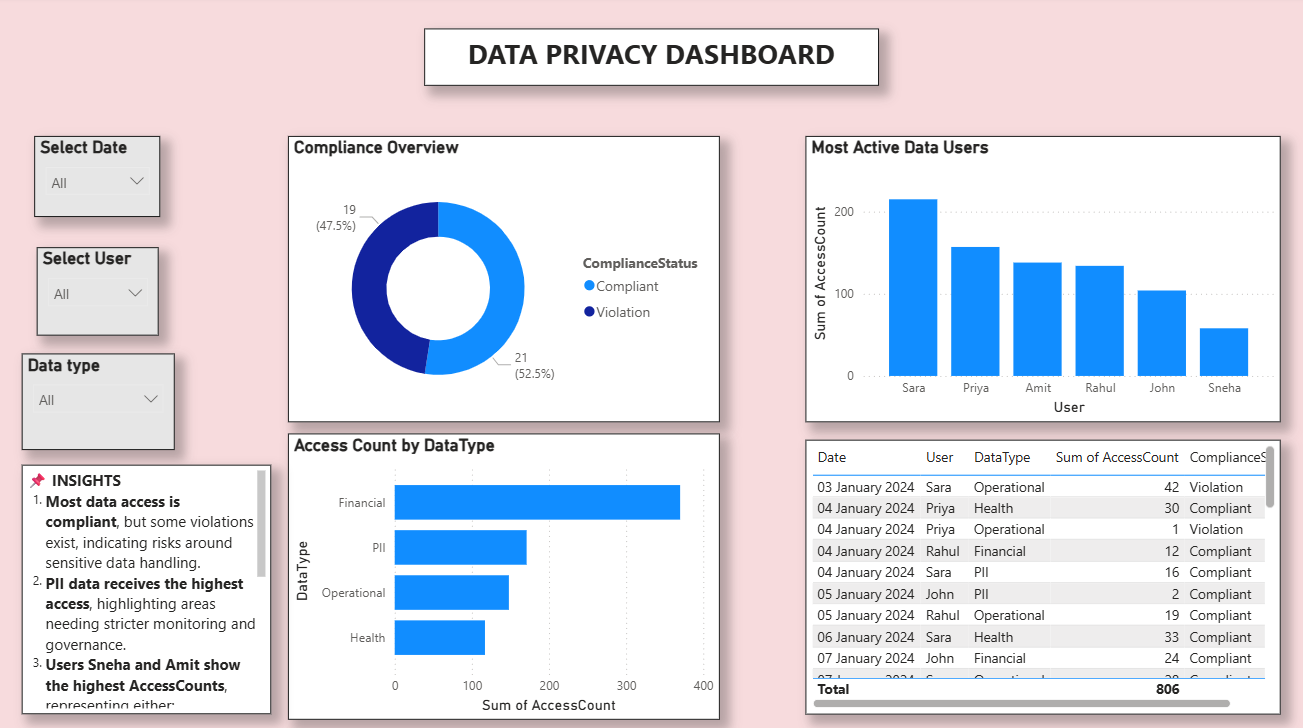

The page's visual inventory and layout, read from the dashboard file:
{"tool":"powerbi","page":{"name":"Page 3","canvas":[1280,720],"ordinal":2},"visuals":[{"type":"donutChart","title":"Compliance Overview","fields":{"Category":["DataPrivacy_small.ComplianceStatus"],"Y":["CountNonNull(DataPrivacy_small.ComplianceStatus)"]},"box":[284,137.2,422.6,279.9],"z":0},{"type":"clusteredBarChart","title":"Access Count by DataType","fields":{"Category":["DataPrivacy_small.DataType"],"Y":["Sum(DataPrivacy_small.AccessCount)"]},"box":[284,428.1,422.6,279.9],"z":1000},{"type":"clusteredColumnChart","title":"Most Active Data Users","fields":{"Category":["DataPrivacy_small.User"],"Y":["Sum(DataPrivacy_small.AccessCount)"]},"box":[790.4,137.2,465.2,279.9],"z":2000},{"type":"tableEx","fields":{"Values":["DataPrivacy_small.Date","DataPrivacy_small.User","DataPrivacy_small.DataType","Sum(DataPrivacy_small.AccessCount)","DataPrivacy_small.ComplianceStatus"]},"box":[790.4,433.6,465.2,269],"z":3000},{"type":"textbox","box":[417.2,31.6,444.6,56.3],"z":4000},{"type":"slicer","title":"Select Date","fields":{"Values":["DataPrivacy_small.Date"]},"box":[35.7,137.2,123.5,79.6],"z":5000},{"type":"slicer","title":"Select User","fields":{"Values":["DataPrivacy_small.User"]},"box":[38.4,245.6,119.4,86.4],"z":6000},{"type":"slicer","title":"Data type","fields":{"Values":["DataPrivacy_small.DataType"]},"box":[23.3,349.9,149.6,94.7],"z":7000},{"type":"textbox","box":[23.3,458.3,244.3,244.3],"z":8000}]}

Visuals, with their boxes in screenshot pixels (x1, y1, x2, y2), scaled from the page's 1280x720 canvas onto the 1303x728 screenshot:
"Compliance Overview" donutChart: <bbox>289, 139, 719, 422</bbox>
"Access Count by DataType" clusteredBarChart: <bbox>289, 433, 719, 716</bbox>
"Most Active Data Users" clusteredColumnChart: <bbox>805, 139, 1278, 422</bbox>
tableEx - DataPrivacy_small.Date x DataPrivacy_small.User: <bbox>805, 438, 1278, 710</bbox>
textbox: <bbox>425, 32, 877, 89</bbox>
"Select Date" slicer: <bbox>36, 139, 162, 219</bbox>
"Select User" slicer: <bbox>39, 248, 161, 336</bbox>
"Data type" slicer: <bbox>24, 354, 176, 450</bbox>
textbox: <bbox>24, 463, 272, 710</bbox>
